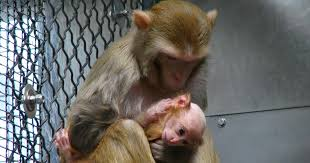monkey: (53, 8, 242, 135), (77, 112, 282, 149)
